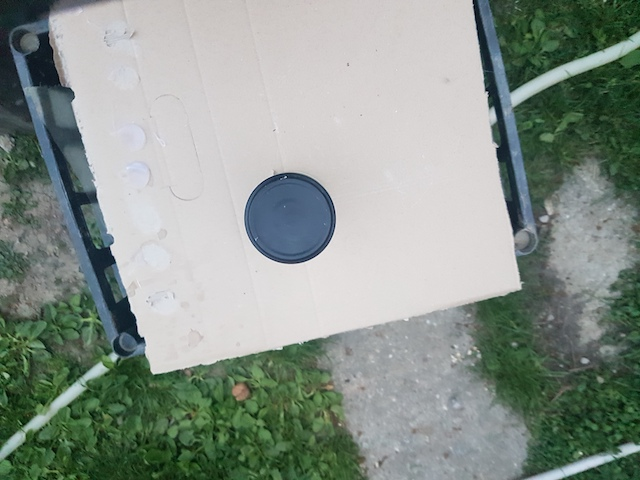recipient: (245, 175, 337, 265)
